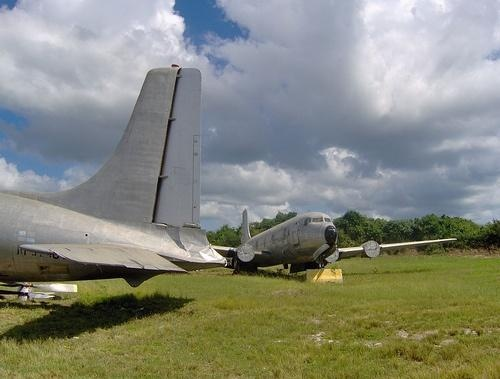aeroplane: (1, 68, 228, 288), (213, 209, 456, 272)
